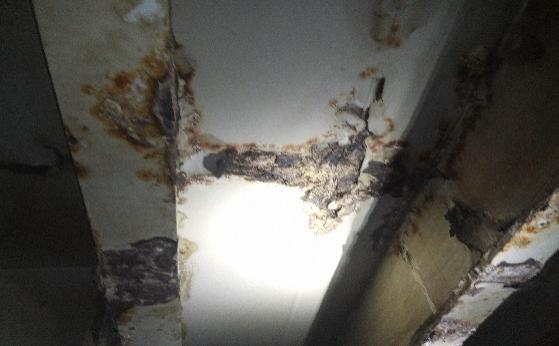corrosion: (311, 72, 408, 233), (76, 45, 175, 188), (176, 123, 319, 197), (82, 230, 191, 322), (360, 0, 426, 48), (410, 144, 453, 211), (450, 199, 502, 250), (464, 257, 543, 290), (502, 196, 556, 244), (171, 50, 210, 109), (425, 310, 482, 342)
